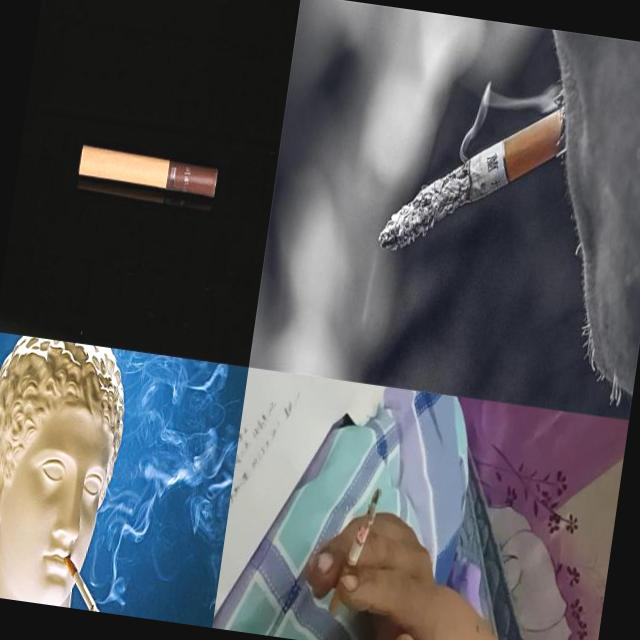smoke: (377, 82, 576, 276), (76, 144, 222, 201), (326, 484, 382, 622), (57, 554, 109, 612)
